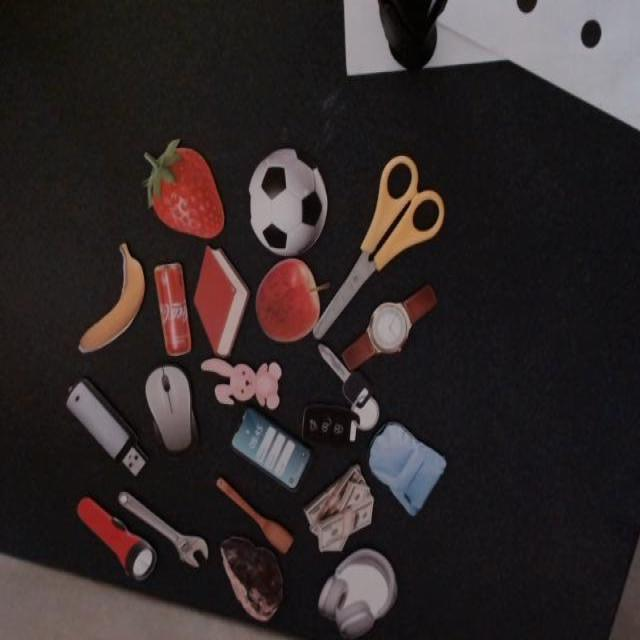Other Objects: (313, 156, 445, 340), (360, 402, 452, 522), (300, 343, 390, 464), (62, 371, 154, 484), (71, 485, 162, 591), (343, 284, 439, 373), (249, 150, 326, 257), (344, 285, 437, 370), (139, 353, 210, 464), (212, 472, 297, 558), (79, 244, 145, 354), (318, 548, 397, 639), (231, 407, 314, 493), (119, 493, 207, 568), (256, 259, 331, 344), (304, 465, 374, 552), (221, 536, 285, 624), (201, 357, 283, 412), (154, 263, 193, 357)
